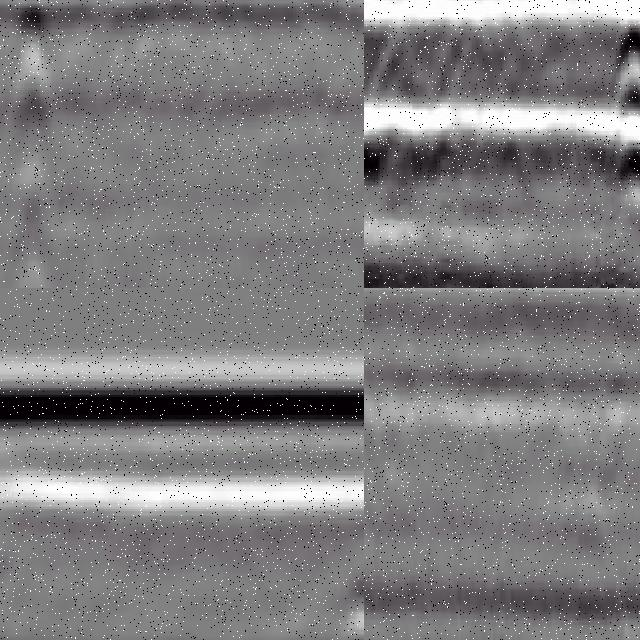crack: (11, 1, 48, 289), (600, 3, 640, 231)
